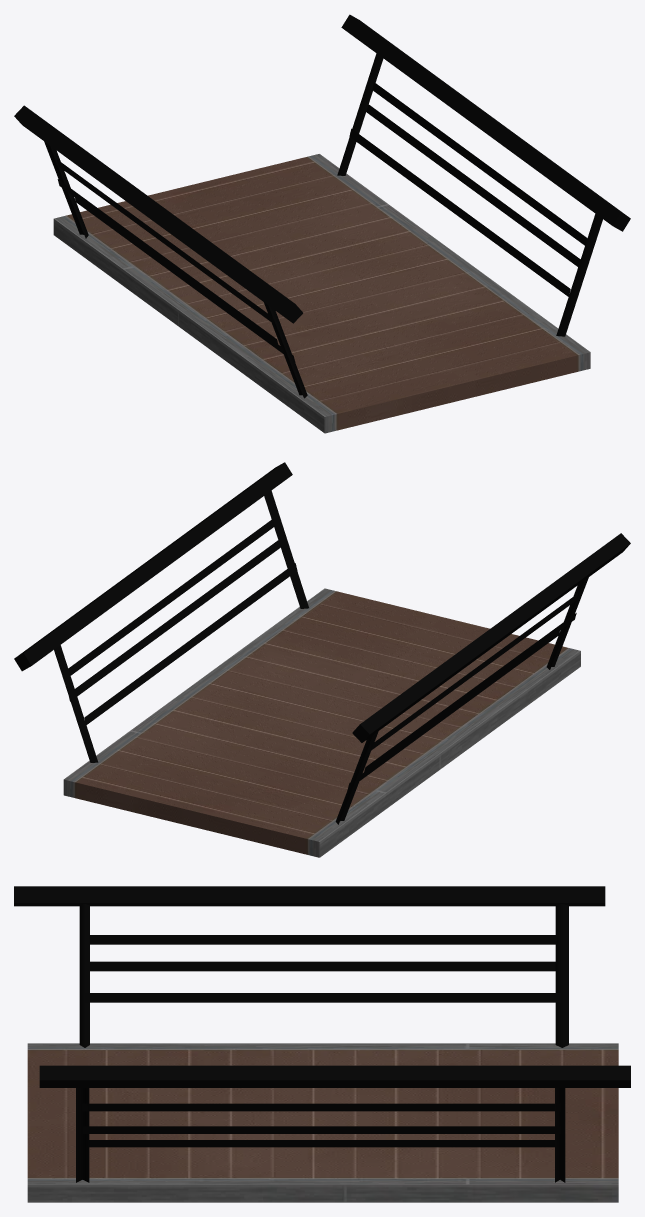
The model's file is pm-block-chain-bridge.glb.
3 renders of one model, top to bottom at view 1: azimuth 30°, elevation 25°; view 2: azimuth 150°, elevation 25°; view 3: azimuth 270°, elevation 25°, orthographic. The views are drawn at different scales.
Parts seen in each view (by area): view 1: BlockChain_Bridge_Art; view 2: BlockChain_Bridge_Art; view 3: BlockChain_Bridge_Art.
Part boxes in pixels (box(x1,y1,x2,y2)): BlockChain_Bridge_Art: box(14, 14, 630, 433); BlockChain_Bridge_Art: box(14, 462, 630, 857); BlockChain_Bridge_Art: box(14, 886, 630, 1202).
Bounding box in the file's own units: 3.23 × 1.23 × 4.43.
Materials: 2 (2 with a texture image).
